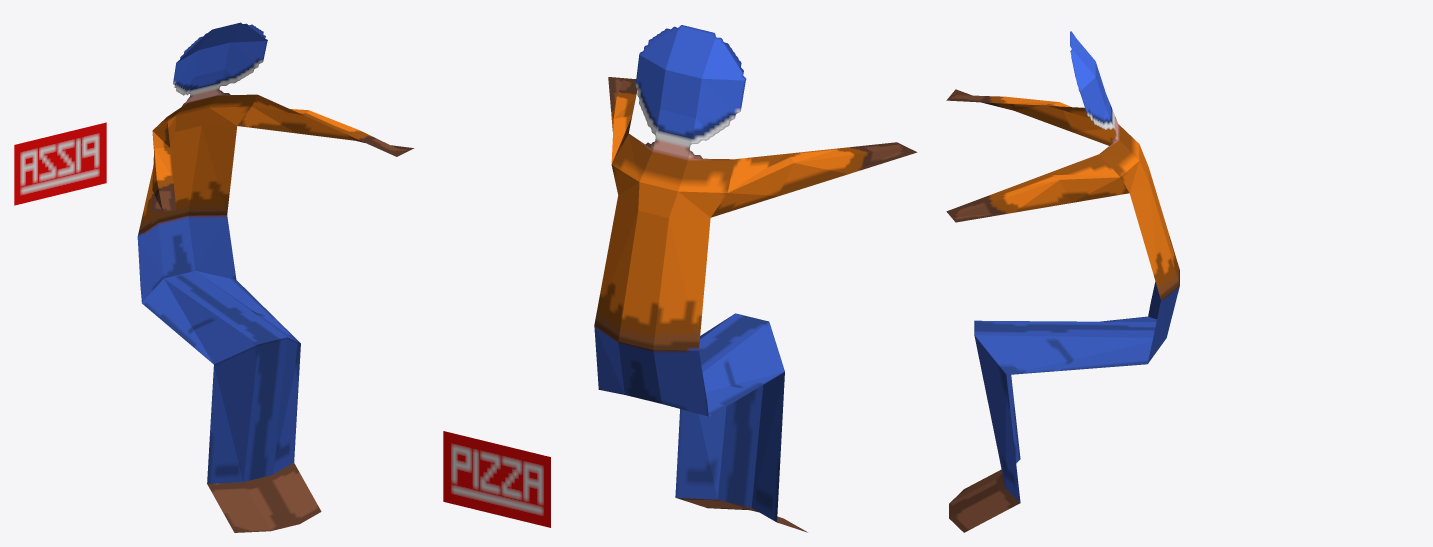
File: driver.obj
3 views of the same model, side by side, from view 1: azimuth 30°, elevation 25°; view 2: azimuth 150°, elevation 25°; view 3: azimuth 270°, elevation 25° (orthographic). The views are drawn at different scales.
Visible parts, largest first — view 1: DRIVER; view 2: DRIVER; view 3: DRIVER.
Boxes of the visible parts, x1,y1,x2,y2 form: DRIVER: (14, 22, 413, 532); DRIVER: (443, 25, 917, 532); DRIVER: (946, 31, 1179, 532).
Size of the model in its own units: 0.6701 by 1.11 by 1.
